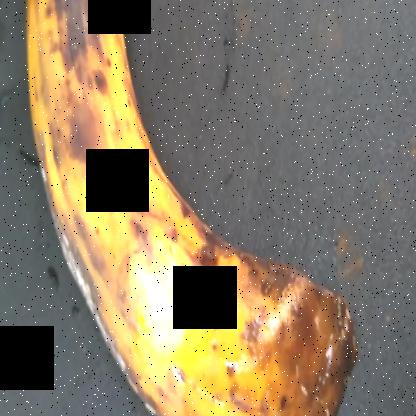rotten: (3, 1, 353, 415)
